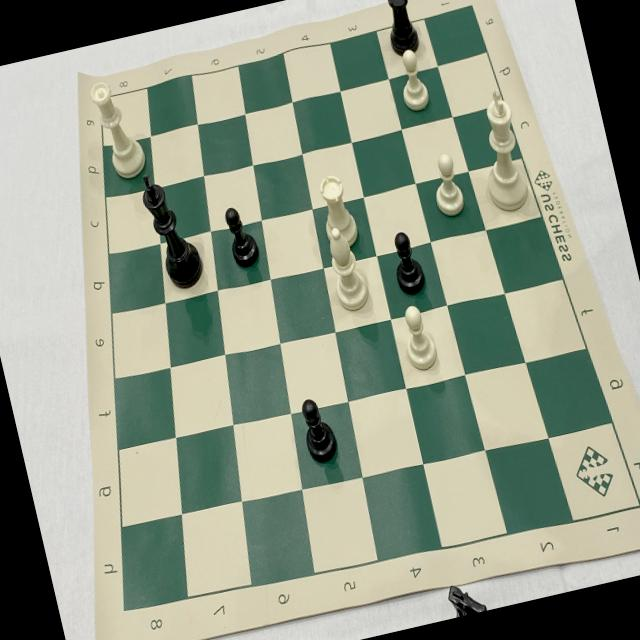black-king: (132, 160, 215, 300)
black-pawn: (291, 388, 342, 471), (215, 196, 267, 276), (382, 221, 432, 300)
black-rook: (373, 0, 427, 63)
white-bishop: (316, 220, 376, 322)
white-king: (458, 78, 542, 223)
white-pawn: (390, 296, 446, 376), (384, 38, 438, 118), (421, 142, 473, 224)
white-queen: (82, 69, 157, 188)
white-rook: (304, 164, 368, 258)
